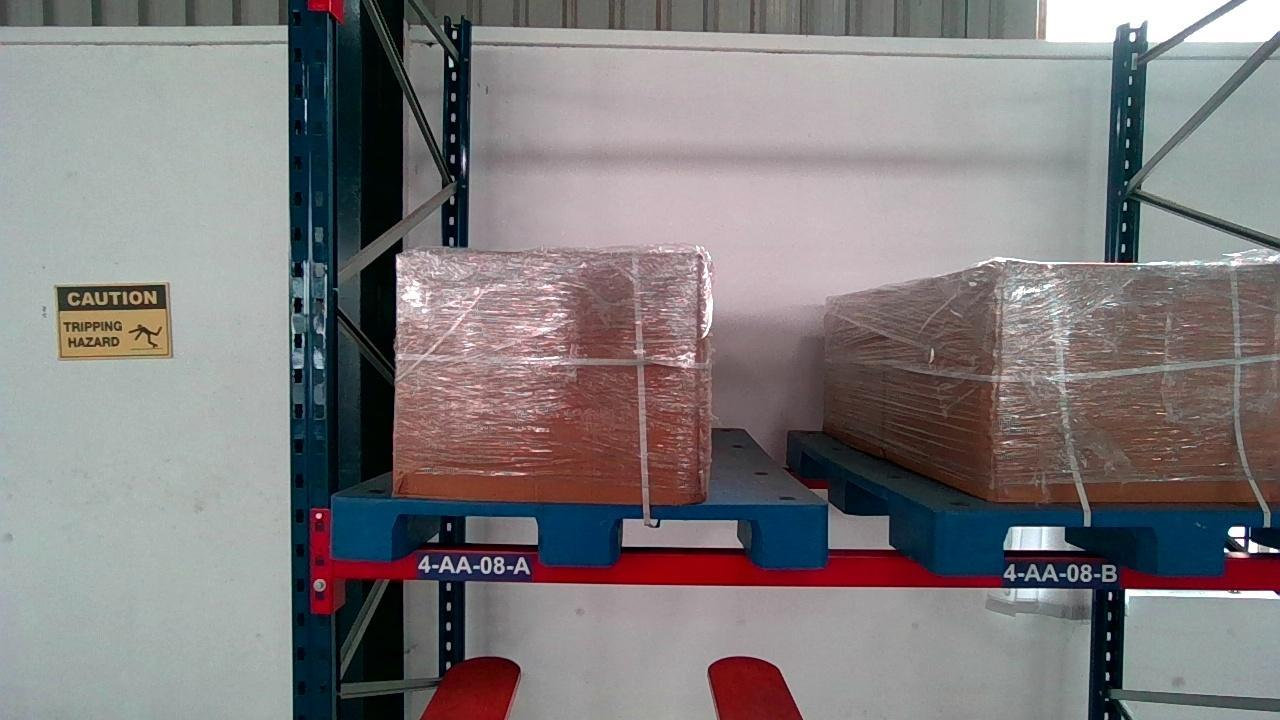h_rack: (328, 543, 1280, 586)
small_pallet: (333, 499, 827, 567), (943, 507, 1280, 573)
